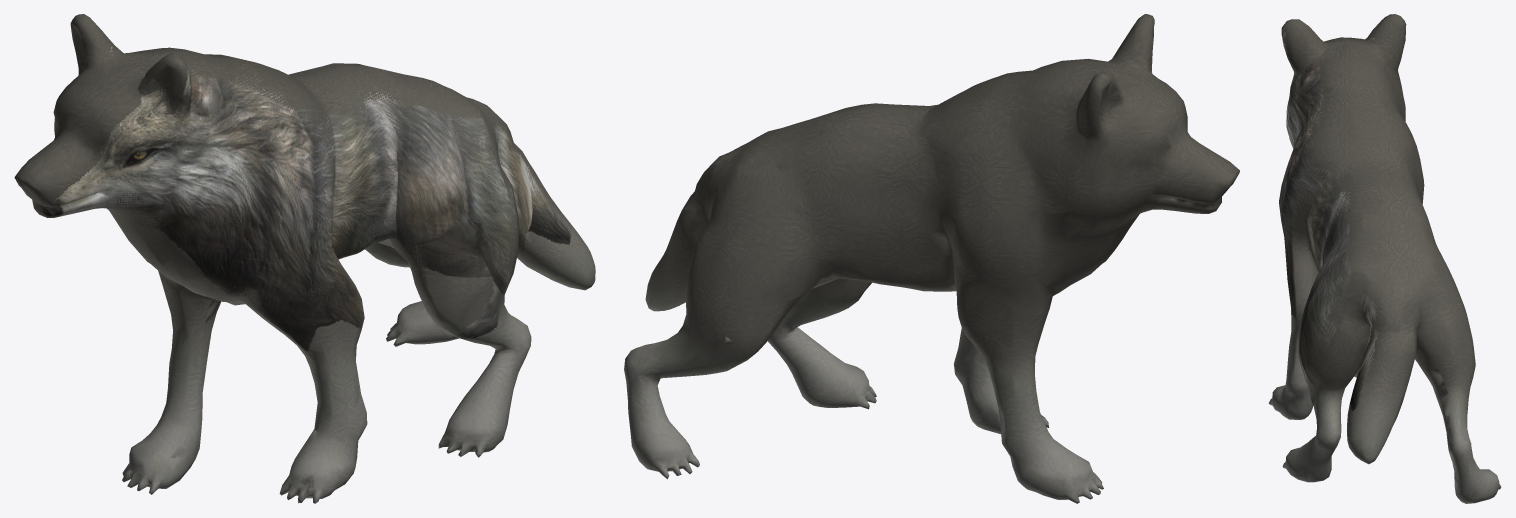
The picture shows the model from 3 angles, left to right: view 1: azimuth 30°, elevation 25°; view 2: azimuth 150°, elevation 25°; view 3: azimuth 270°, elevation 25°; orthographic projection. The views are drawn at different scales.
Visible parts, largest first — view 1: geometry_0; view 2: geometry_0; view 3: geometry_0.
Boxes of the visible parts, x1,y1,x2,y2 form: geometry_0: (14, 14, 595, 503); geometry_0: (624, 14, 1239, 503); geometry_0: (1268, 14, 1501, 503).
Bounding box in the file's own units: 2.63 × 2 × 1.22.
Materials: 1 (1 with a texture image).
